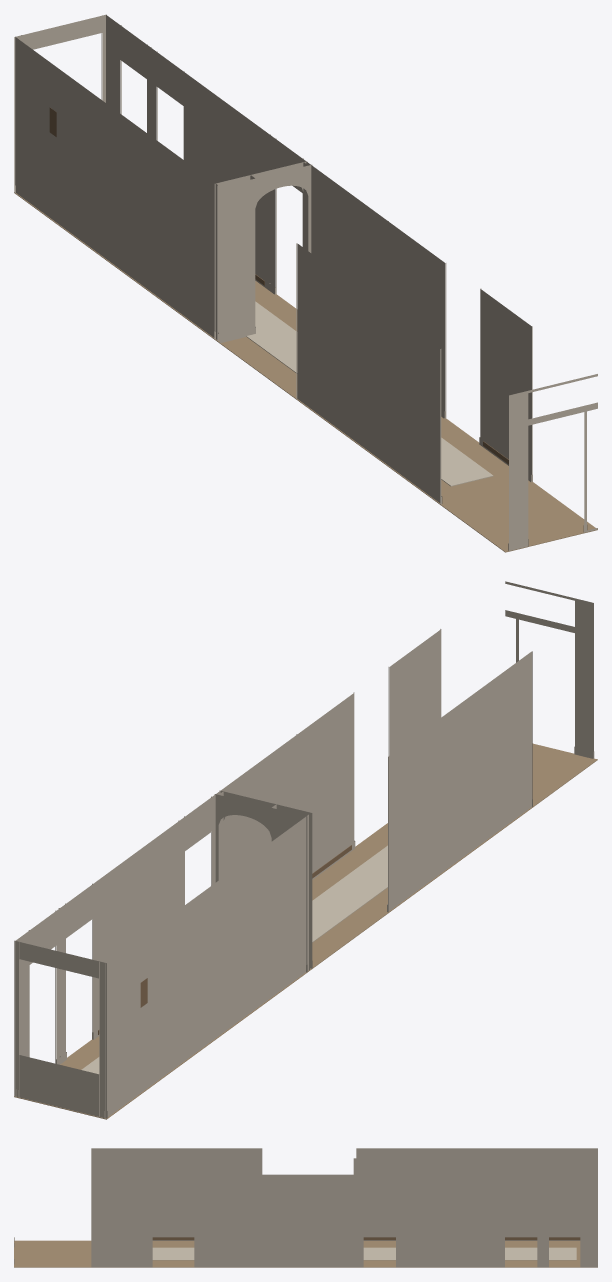
Rendered from corridor-3.glb.
3 views of the same model, one above another, from view 1: azimuth 30°, elevation 25°; view 2: azimuth 150°, elevation 25°; view 3: azimuth 270°, elevation 25° (orthographic). The views are drawn at different scales.
Parts seen in each view (by area): view 1: DESIGN | corridor removable wall finish, DESIGN | corridor floor finish, DESIGN | Quiet hall runner; view 2: DESIGN | corridor removable wall finish, DESIGN | corridor floor finish, DESIGN | Quiet hall runner; view 3: DESIGN | corridor removable wall finish, DESIGN | corridor floor finish, DESIGN | Quiet hall runner, DESIGN | Quiet skirting datum.
Boxes of the visible parts, box(x1,y1,x2,y2) form: DESIGN | corridor removable wall finish: box(14, 14, 597, 550); DESIGN | corridor floor finish: box(14, 192, 597, 552); DESIGN | Quiet hall runner: box(246, 301, 493, 486); DESIGN | corridor removable wall finish: box(14, 581, 594, 1118); DESIGN | corridor floor finish: box(14, 743, 597, 1119); DESIGN | Quiet hall runner: box(81, 845, 387, 1074); DESIGN | corridor removable wall finish: box(14, 1148, 597, 1267); DESIGN | corridor floor finish: box(14, 1240, 597, 1267); DESIGN | Quiet hall runner: box(152, 1247, 576, 1260); DESIGN | Quiet skirting datum: box(363, 1237, 580, 1240).
Size of the model in its own units: 1.7 by 2.74 by 15.63.
